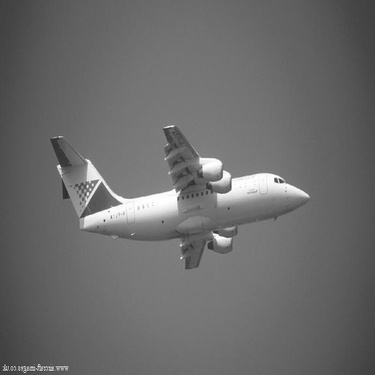airplane: (40, 126, 311, 266)
